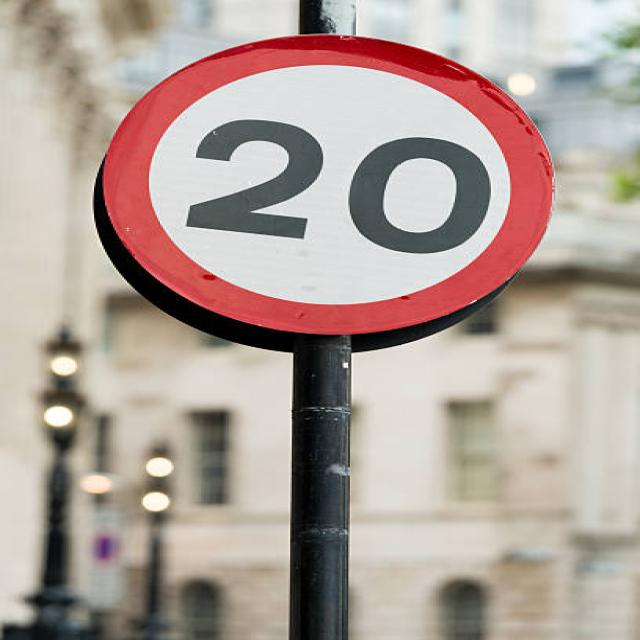speed_limit_20: (97, 29, 556, 340)
